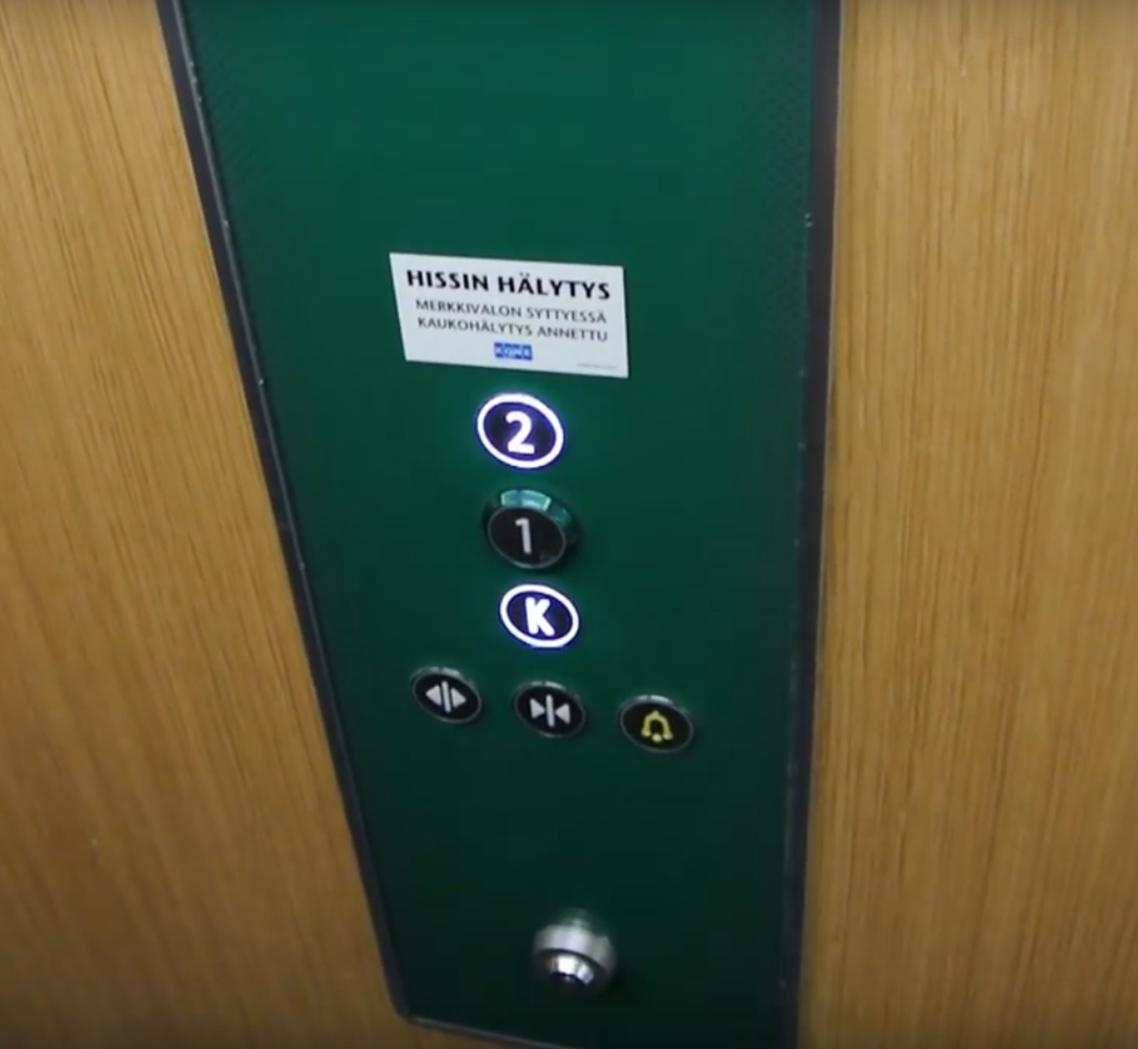1: (477, 487, 578, 573)
2: (475, 393, 564, 472)
K: (497, 580, 580, 652)
alarm: (616, 692, 695, 753)
close: (510, 679, 587, 743)
keyhole: (528, 912, 618, 996)
open: (407, 665, 483, 725)
